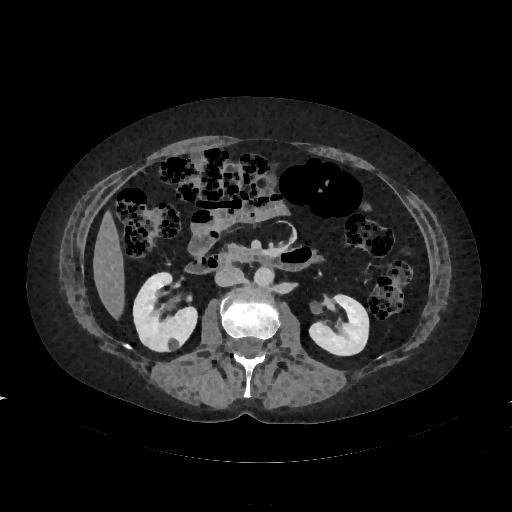Lesion: (165, 336, 181, 353)
